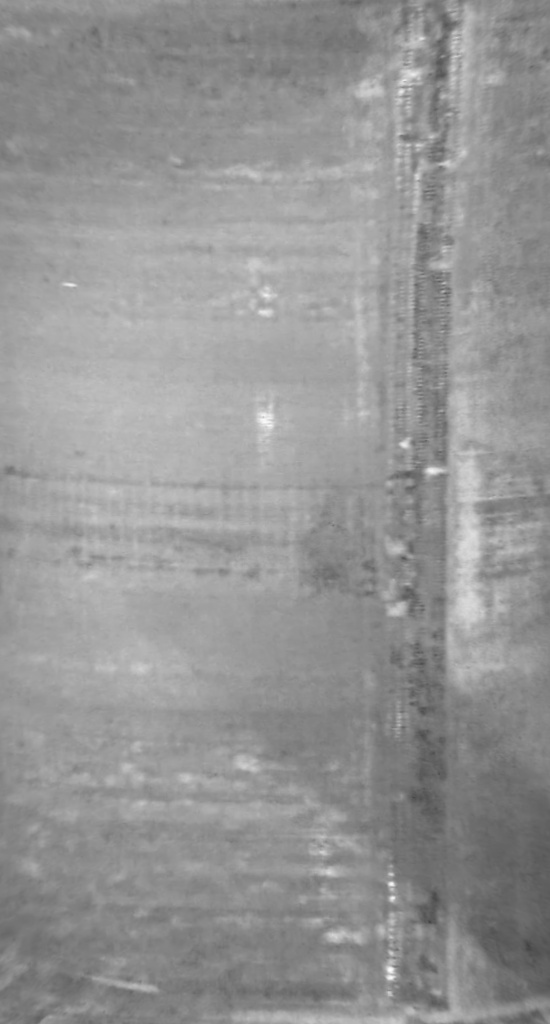splice: (377, 1, 480, 1023)
